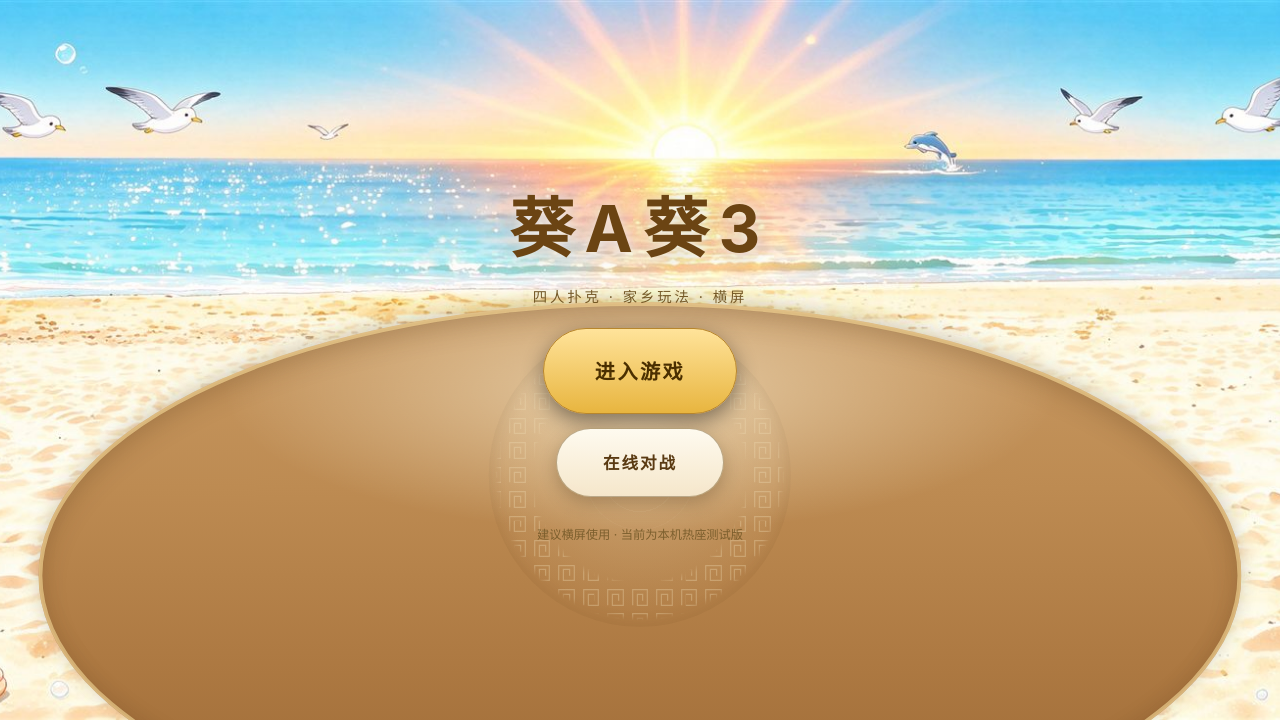
Test: M2 横屏界面（jsdom） › 结算：出现「下一局」，点了进入下一局
Later steps or results of the test are not shown.
Click the button "进入游戏".
click(640, 371)  # box [543,328,737,414]
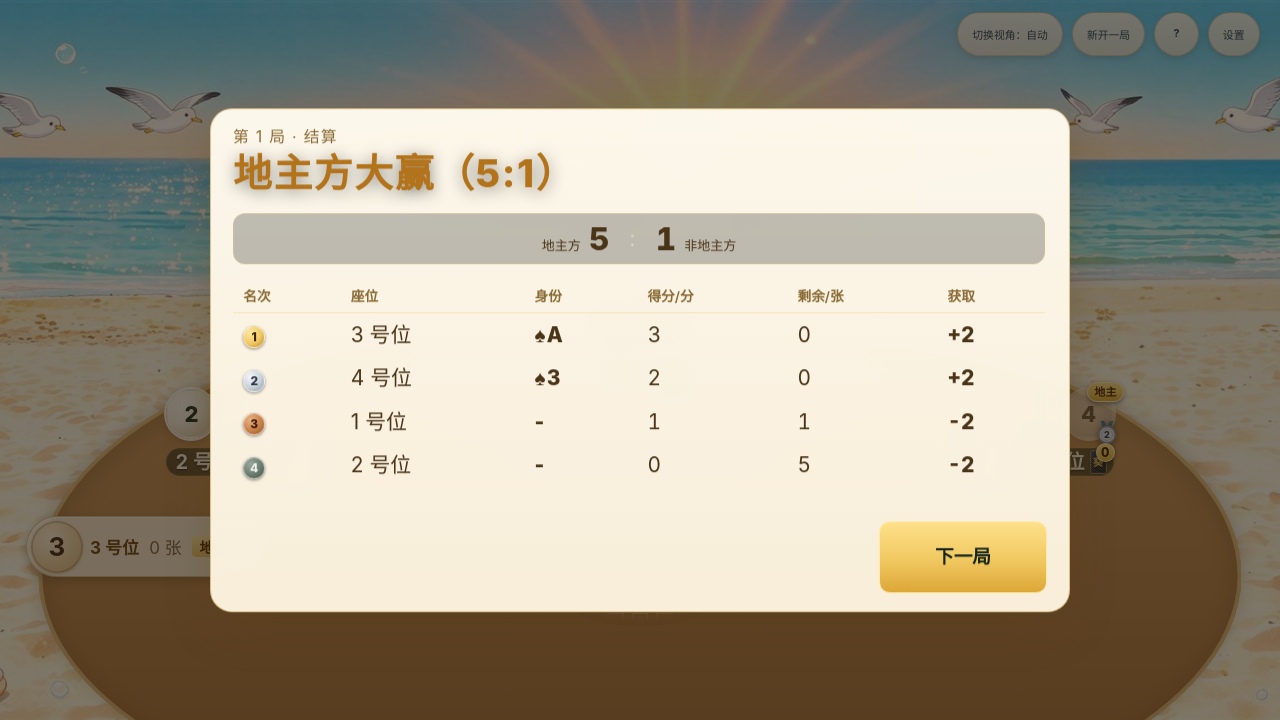
Now the button "下一局" is shown, box [879,522,1047,594]
